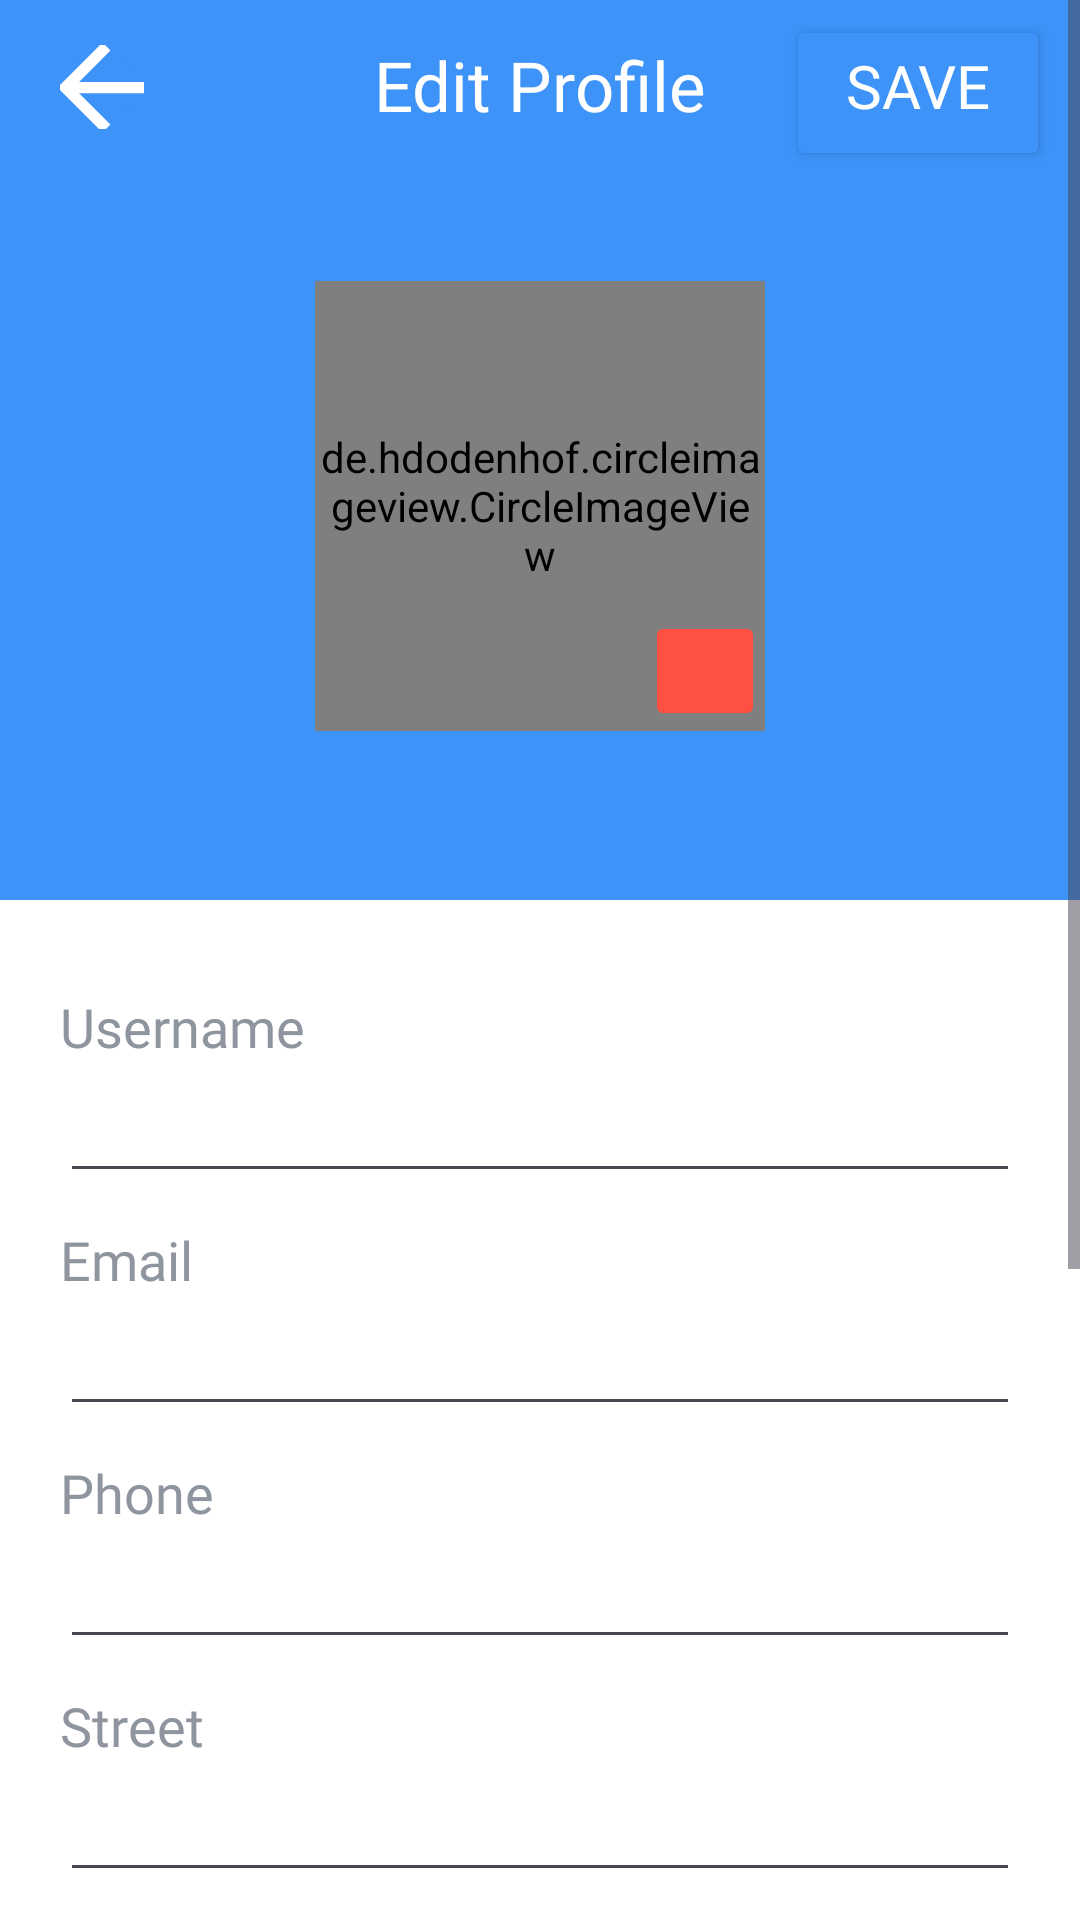

Screen size 1080px×1920px. Icon name, then its box in pixels as (x1, y1, x2, y2):
arrow back: (60, 45, 144, 129)
